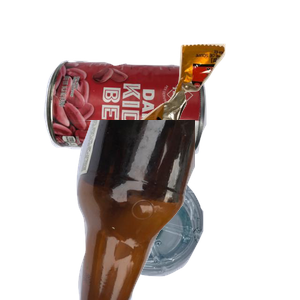glass: (60, 120, 300, 300)
metal: (41, 58, 240, 207)
plastic: (86, 163, 282, 300)
trash: (122, 41, 300, 190)
